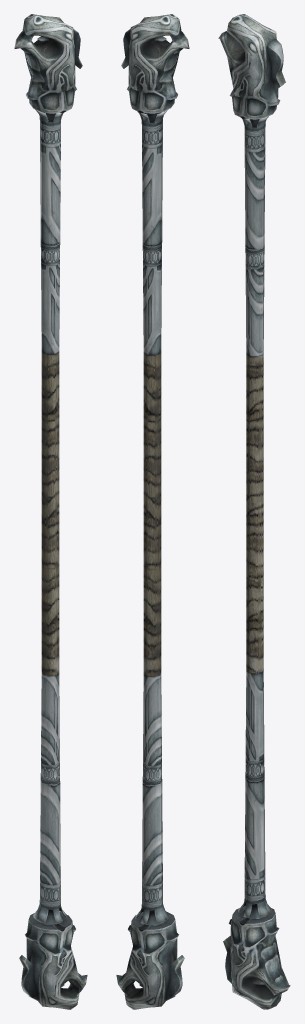
File: staff_battle.FBX
The picture shows the model from 3 angles, left to right: view 1: azimuth 30°, elevation 25°; view 2: azimuth 150°, elevation 25°; view 3: azimuth 330°, elevation 25°; orthographic projection.
Visible parts, largest first — view 1: staff_battle; view 2: staff_battle; view 3: staff_battle.
Boxes of the visible parts, x1=… form: staff_battle: x1=14, y1=14, x2=87, y2=1009; staff_battle: x1=116, y1=14, x2=189, y2=1009; staff_battle: x1=218, y1=14, x2=290, y2=1009.
Size of what is drawn, in the model's own units: 10.36 by 135 by 6.57.
